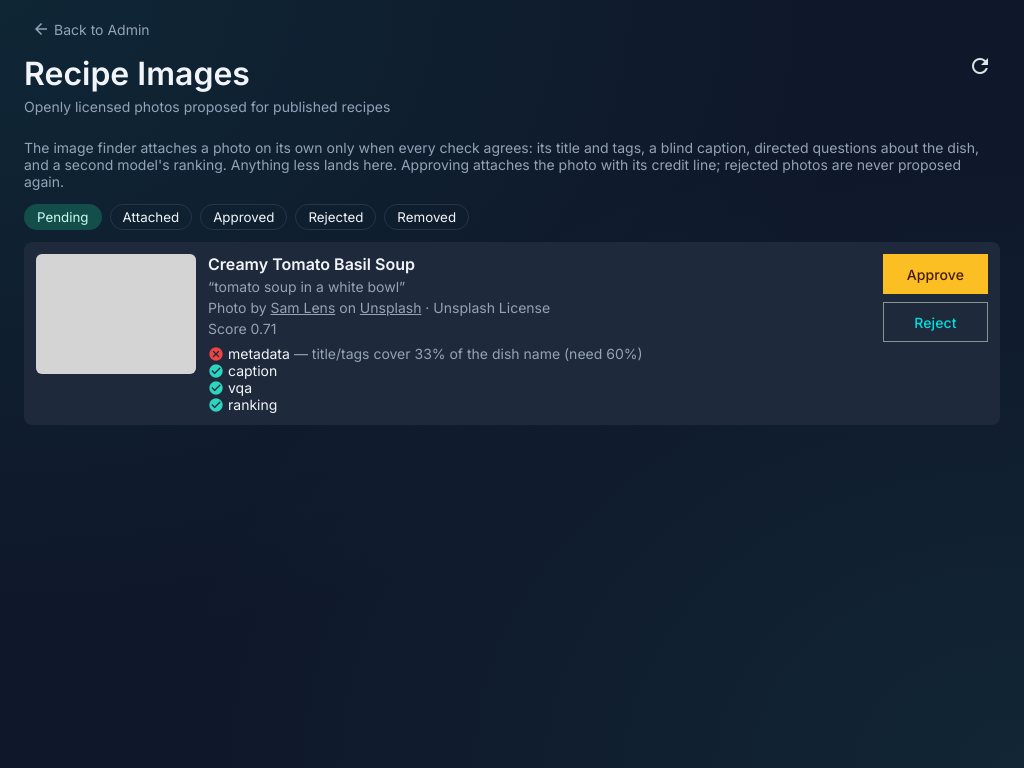
Scenario: RecipeImagesAdmin › approves a photo and refreshes the queue
This screenshot has width=1024, height=768.
What coordinates should you click on to do the following:
click the button with test id "recipe-images-admin-approve-btn"
I would click on:
 (935, 274)
Its box is [883, 254, 988, 294].
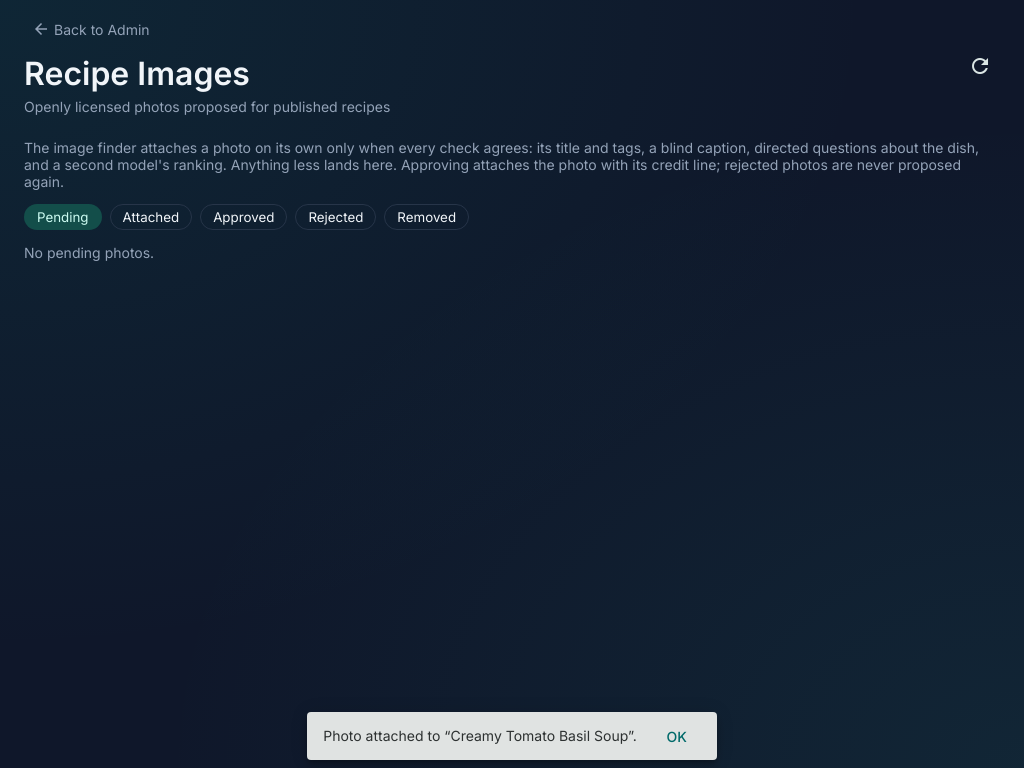
Expected: the text "No pending photos." is shown, [24, 244, 154, 261]
